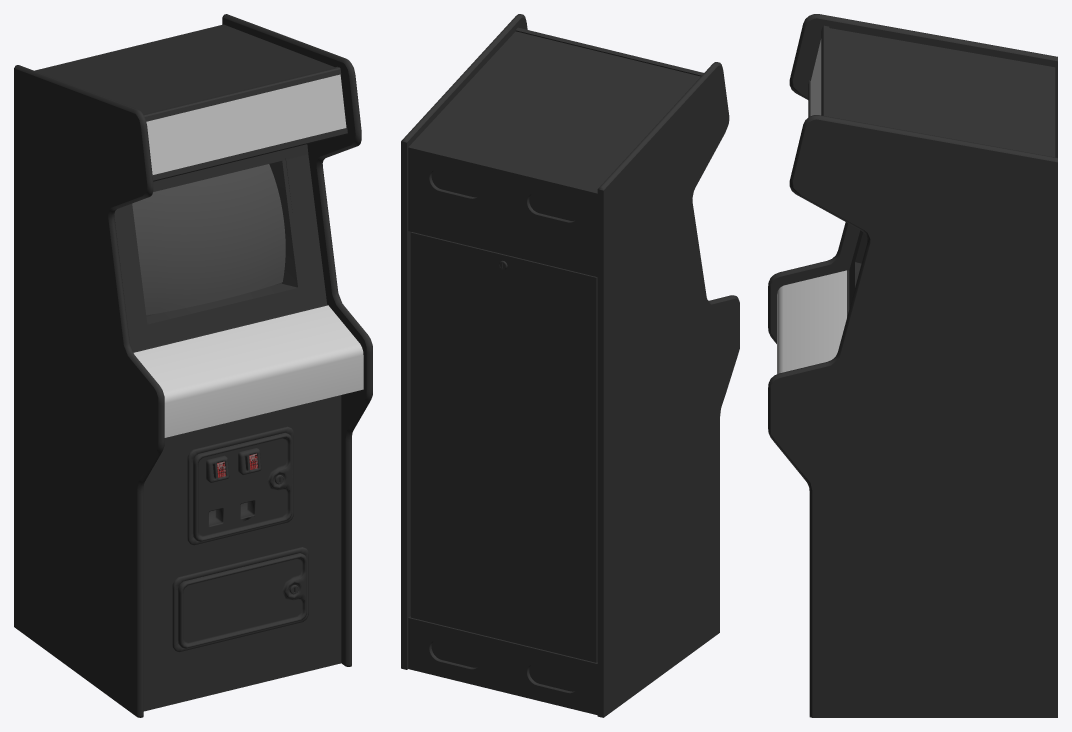
Rendered from cabinet.dae.
3 views of the same model, side by side, from view 1: azimuth 30°, elevation 25°; view 2: azimuth 150°, elevation 25°; view 3: azimuth 270°, elevation 25° (orthographic). The views are drawn at different scales.
Parts seen in each view (by area): view 1: cabinet-combined, cabinet-sides, cabinet-front, screen, cabinet-marquee; view 2: cabinet-combined, cabinet-sides; view 3: cabinet-sides, cabinet-combined, cabinet-front, cabinet-marquee.
Boxes of the visible parts, x1,y1,x2,y2 form: cabinet-combined: [14, 14, 372, 717]; cabinet-sides: [14, 68, 323, 716]; cabinet-front: [133, 305, 363, 437]; screen: [132, 164, 285, 315]; cabinet-marquee: [146, 74, 346, 174]; cabinet-combined: [401, 14, 739, 717]; cabinet-sides: [603, 65, 739, 717]; cabinet-sides: [770, 119, 1057, 717]; cabinet-combined: [768, 14, 1057, 717]; cabinet-front: [777, 270, 846, 374]; cabinet-marquee: [810, 39, 821, 115].
Bounding box in the file's own units: 0.6608 × 0.7778 × 1.78.
Materials: 6 (5 with a texture image).
